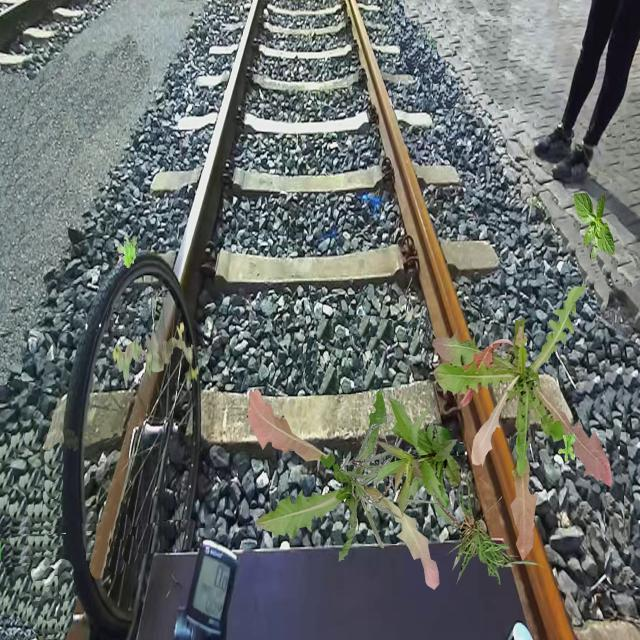Plant: (432, 284, 612, 562), (247, 388, 440, 590), (405, 468, 548, 588), (373, 398, 462, 528), (339, 424, 412, 548), (112, 322, 198, 390), (573, 191, 614, 262), (117, 236, 138, 269), (558, 431, 576, 463)
